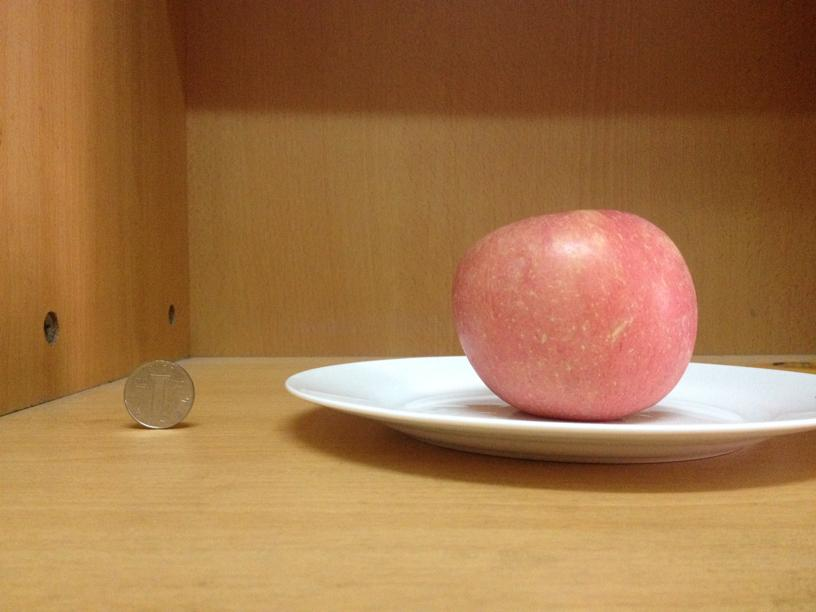apple: (451, 207, 700, 422)
coin: (124, 360, 193, 429)
